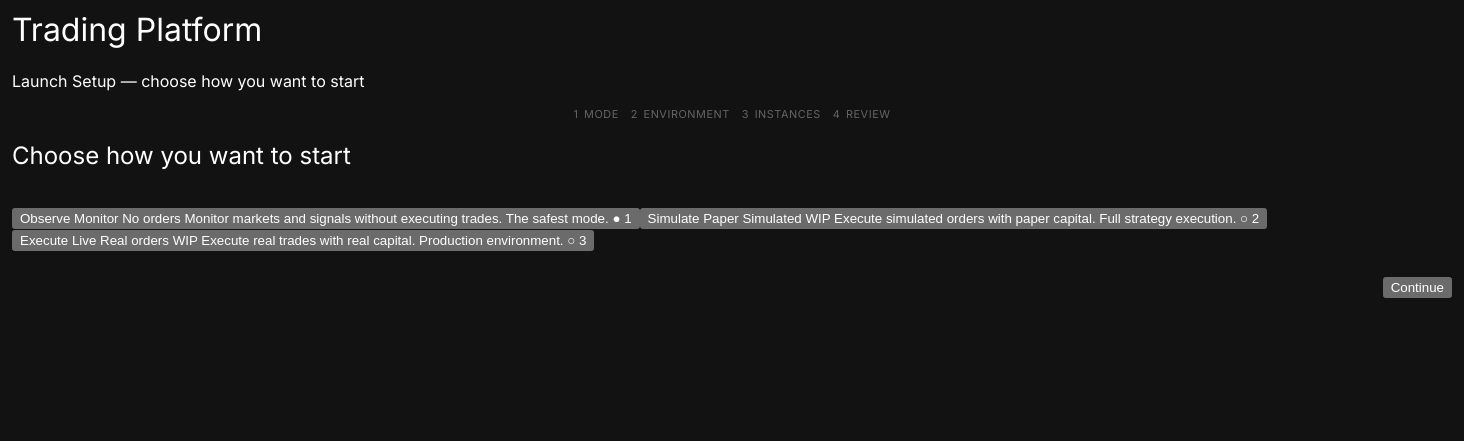
Scenario: Launch Setup — mode selection › execute mode on Hyperliquid shows wallet credentials
Click the text "Execute": coordinates (44, 241) [20,233,68,248]
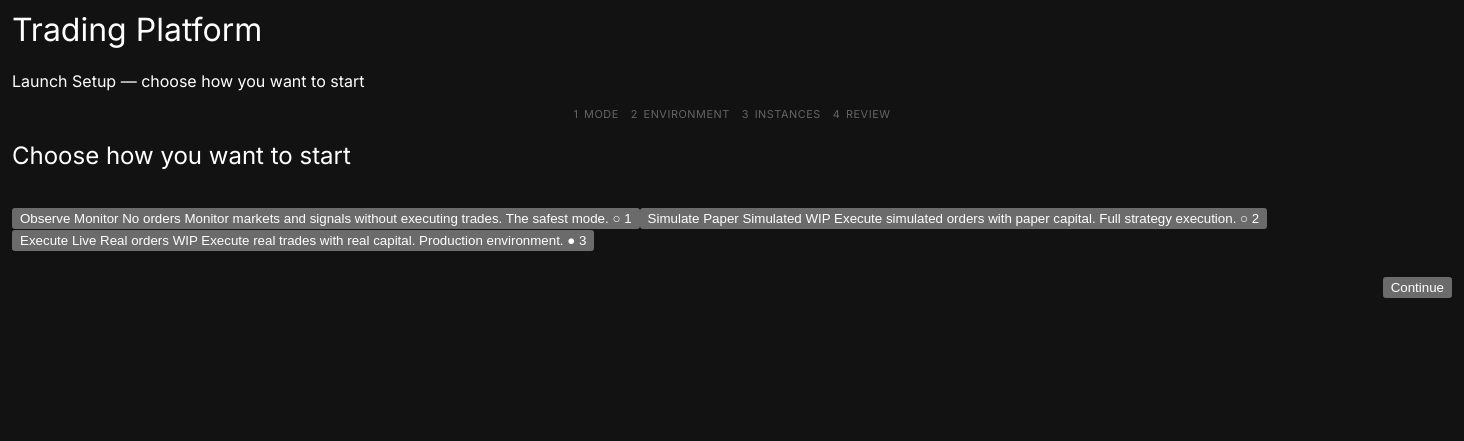
Click the button "Continue": coordinates (1417, 287) [1383,277,1452,298]
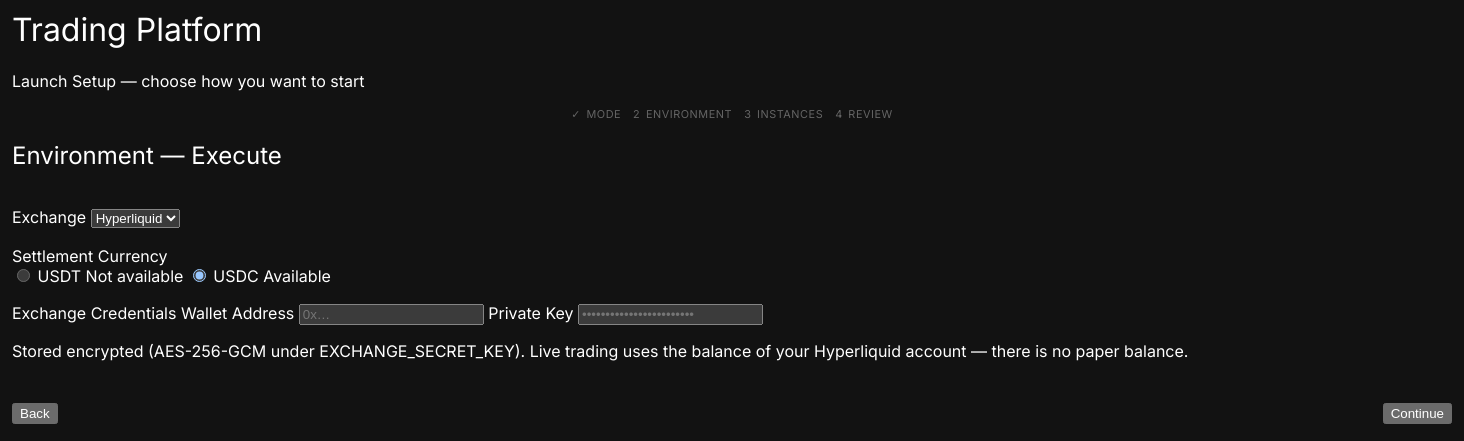
Result: the field with id "launch-wallet" is shown at [299,304,484,326]
Result: the password field with id "launch-private-key" is shown at [578,304,763,326]
